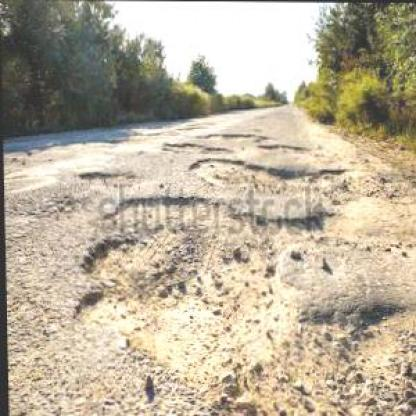pothole: (65, 191, 297, 415), (187, 154, 354, 200), (200, 130, 273, 158), (76, 166, 138, 188), (161, 139, 231, 155)
